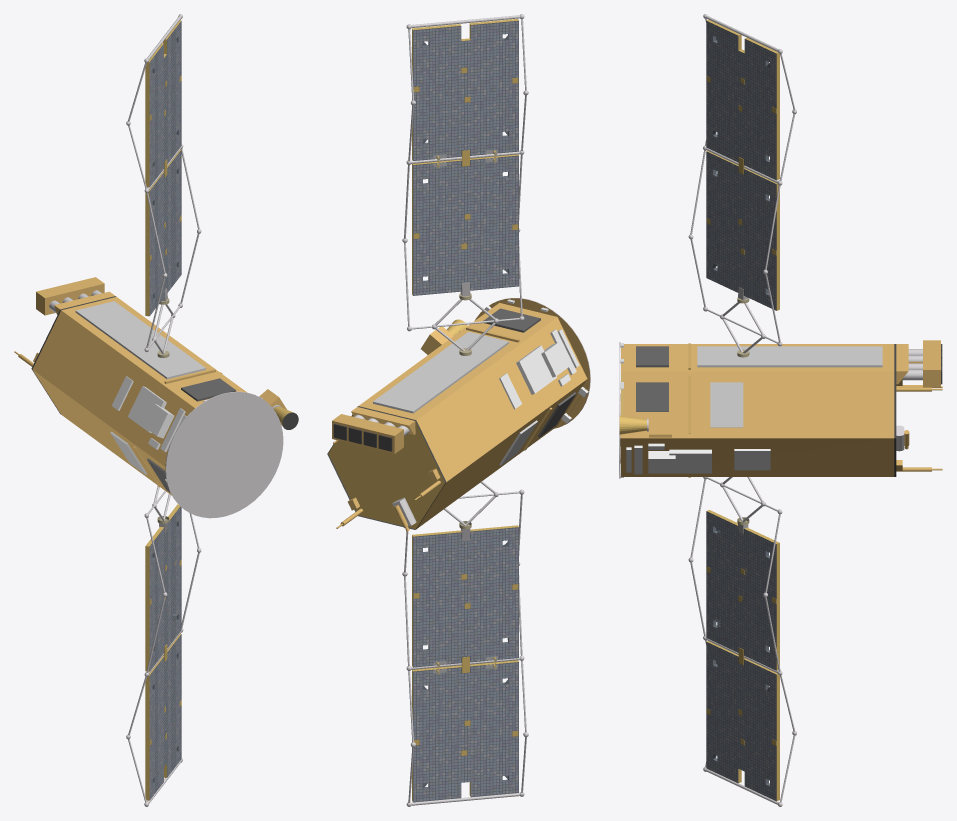
Rendered from Orbiting Carbon Observatory (OCO) 2.fbx.
3 views of the same model, side by side, from view 1: azimuth 30°, elevation 25°; view 2: azimuth 150°, elevation 25°; view 3: azimuth 270°, elevation 25° (orthographic). The views are drawn at different scales.
Visible parts, largest first — view 1: imagetostl_mesh20, imagetostl_mesh16, imagetostl_mesh9, imagetostl_mesh4, imagetostl_mesh19, imagetostl_mesh8, imagetostl_mesh2, imagetostl_mesh7, imagetostl_mesh5, imagetostl_mesh6, imagetostl_mesh18, imagetostl_mesh13 (+1 smaller); view 2: imagetostl_mesh9, imagetostl_mesh4, imagetostl_mesh16, imagetostl_mesh8, imagetostl_mesh7, imagetostl_mesh22, imagetostl_mesh5, imagetostl_mesh20, imagetostl_mesh6, imagetostl_mesh19, imagetostl_mesh18, imagetostl_mesh13 (+7 smaller); view 3: imagetostl_mesh16, imagetostl_mesh9, imagetostl_mesh4, imagetostl_mesh8, imagetostl_mesh20, imagetostl_mesh19, imagetostl_mesh7, imagetostl_mesh5, imagetostl_mesh6, imagetostl_mesh18, imagetostl_mesh2, imagetostl_mesh14 (+2 smaller).
Part boxes in pixels (x1,y1,x2,y2): imagetostl_mesh20: (49, 14, 283, 806); imagetostl_mesh16: (32, 291, 286, 495); imagetostl_mesh9: (149, 21, 181, 799); imagetostl_mesh4: (149, 22, 181, 797); imagetostl_mesh19: (75, 301, 205, 474); imagetostl_mesh8: (149, 26, 181, 796); imagetostl_mesh2: (145, 20, 181, 800); imagetostl_mesh7: (149, 31, 181, 795); imagetostl_mesh5: (149, 23, 181, 799); imagetostl_mesh6: (149, 30, 181, 795); imagetostl_mesh18: (111, 376, 262, 510); imagetostl_mesh13: (14, 277, 104, 366); imagetostl_mesh9: (413, 20, 518, 802); imagetostl_mesh4: (413, 22, 518, 801); imagetostl_mesh16: (351, 303, 587, 528); imagetostl_mesh8: (413, 23, 518, 799); imagetostl_mesh7: (413, 24, 518, 798); imagetostl_mesh22: (328, 415, 445, 529); imagetostl_mesh5: (413, 21, 518, 801); imagetostl_mesh20: (354, 14, 590, 806); imagetostl_mesh6: (413, 22, 518, 798); imagetostl_mesh19: (373, 331, 537, 465); imagetostl_mesh18: (485, 299, 588, 423); imagetostl_mesh13: (332, 414, 440, 531); imagetostl_mesh16: (620, 344, 922, 476); imagetostl_mesh9: (706, 21, 776, 801); imagetostl_mesh4: (706, 23, 775, 800); imagetostl_mesh8: (706, 25, 775, 796); imagetostl_mesh20: (619, 14, 922, 806); imagetostl_mesh19: (697, 346, 882, 427); imagetostl_mesh7: (706, 25, 775, 792); imagetostl_mesh5: (706, 22, 775, 799); imagetostl_mesh6: (706, 25, 775, 791); imagetostl_mesh18: (620, 343, 770, 477); imagetostl_mesh2: (706, 20, 779, 800); imagetostl_mesh14: (636, 346, 668, 411).
Bounding box in the file's own units: 24678 × 128982 × 49876.
